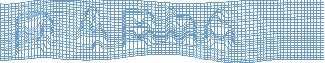4: (73, 6, 110, 53)
6: (203, 6, 236, 51)
B: (120, 7, 156, 50)
D: (12, 10, 55, 58)
h: (165, 5, 198, 47)
